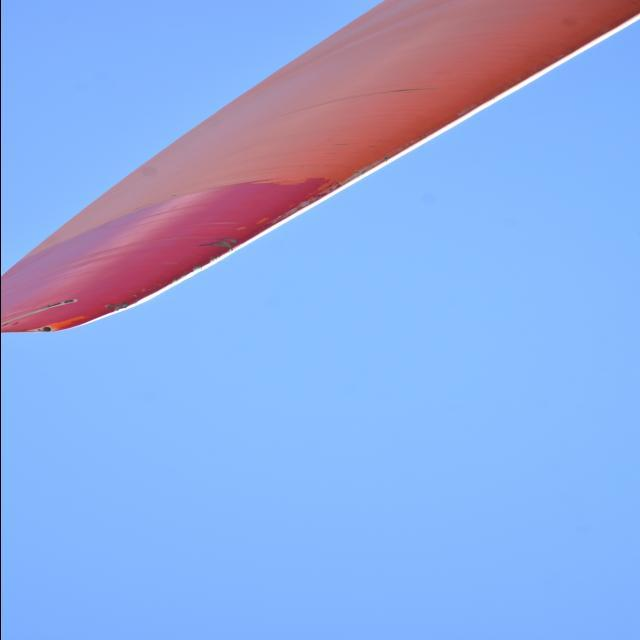Coating_defects: (102, 295, 140, 313), (36, 325, 54, 337)
EROSION: (220, 174, 356, 260), (142, 254, 219, 305)
